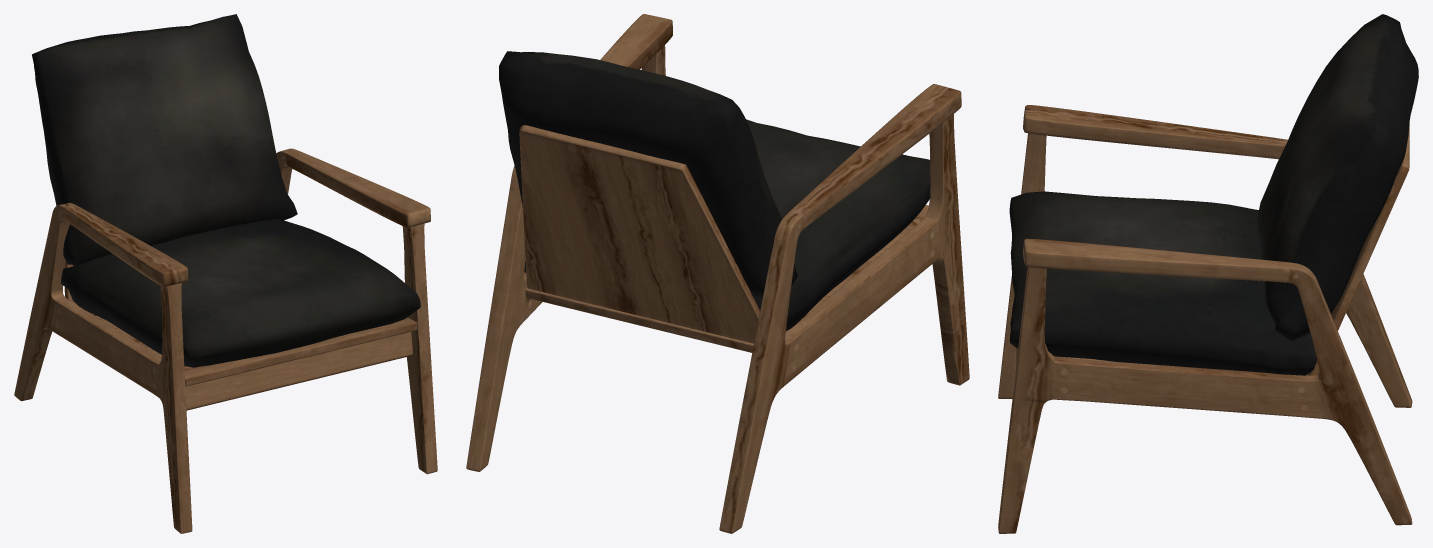
Rendered from ph-armchair-leather-oak-medium.glb.
3 views of the same model, side by side, from view 1: azimuth 30°, elevation 25°; view 2: azimuth 150°, elevation 25°; view 3: azimuth 270°, elevation 25° (orthographic). The views are drawn at different scales.
Visible parts, largest first — view 1: modern_arm_chair_01; view 2: modern_arm_chair_01; view 3: modern_arm_chair_01.
Boxes of the visible parts, x1=… form: modern_arm_chair_01: x1=14, y1=14, x2=437, y2=533; modern_arm_chair_01: x1=466, y1=14, x2=969, y2=533; modern_arm_chair_01: x1=998, y1=14, x2=1418, y2=533.
Bounding box in the file's own units: 0.8203 × 1.02 × 0.9866.
2 materials, 2 textured.
